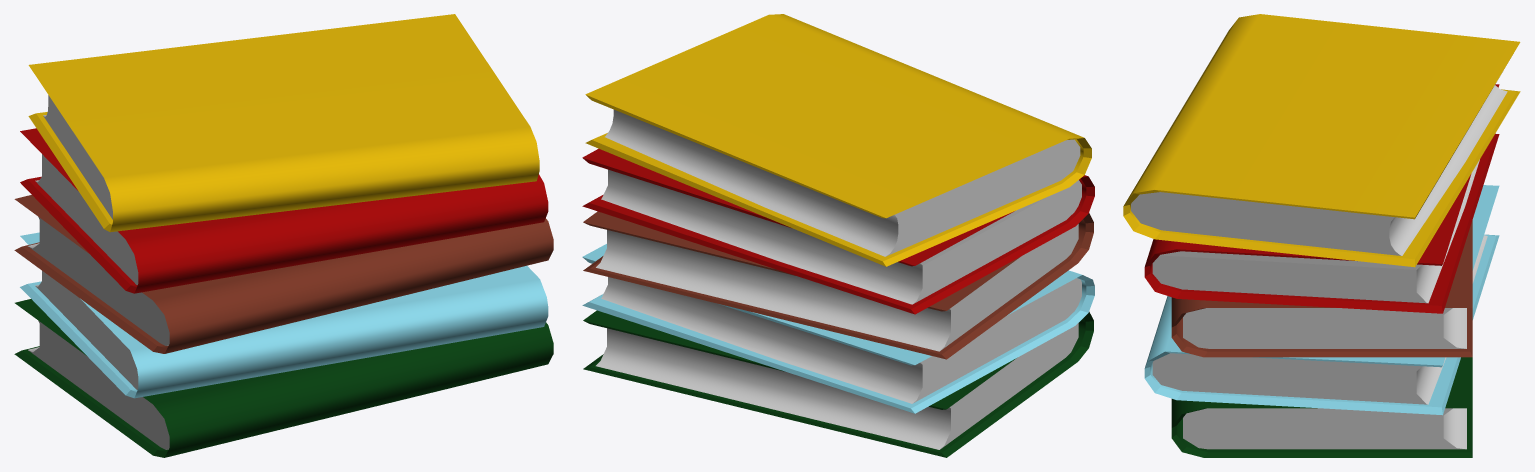
File: book5.fbx
The picture shows the model from 3 angles, left to right: view 1: azimuth 30°, elevation 25°; view 2: azimuth 150°, elevation 25°; view 3: azimuth 270°, elevation 25°; orthographic projection. The views are drawn at different scales.
Parts seen in each view (by area): view 1: book5, book3, book4, book1, book2; view 2: book5, book4, book3, book2, book1; view 3: book5, book4, book2, book3, book1.
Boxes of the visible parts, left/top/right/bottom form: book5: left=28, top=14, right=539, bottom=232; book3: left=14, top=195, right=553, bottom=353; book4: left=20, top=128, right=548, bottom=293; book1: left=14, top=299, right=553, bottom=457; book2: left=20, top=232, right=548, bottom=398; book5: left=585, top=14, right=1091, bottom=266; book4: left=582, top=148, right=1094, bottom=314; book3: left=583, top=211, right=1093, bottom=359; book2: left=582, top=244, right=1094, bottom=413; book1: left=583, top=310, right=1093, bottom=457; book5: left=1123, top=14, right=1520, bottom=267; book4: left=1144, top=84, right=1499, bottom=313; book2: left=1144, top=185, right=1499, bottom=415; book3: left=1171, top=220, right=1472, bottom=357; book1: left=1171, top=357, right=1472, bottom=457.
Bounding box in the file's own units: 61.35 × 34.97 × 49.74.
